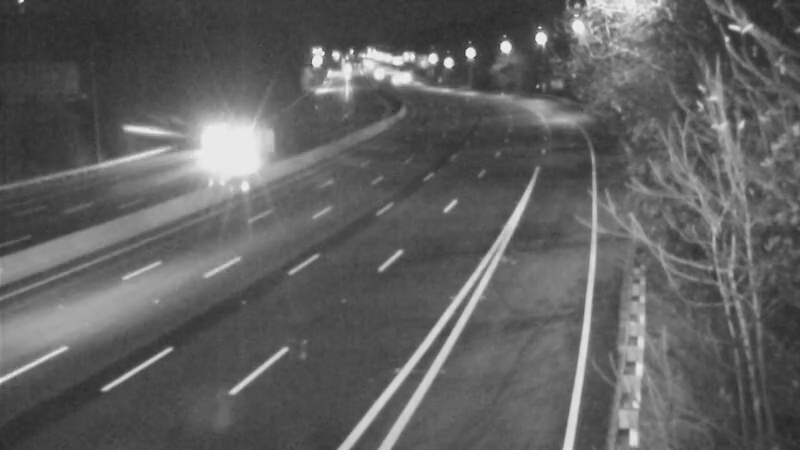vehicle: (196, 112, 276, 192), (370, 53, 420, 103), (180, 114, 230, 164)
